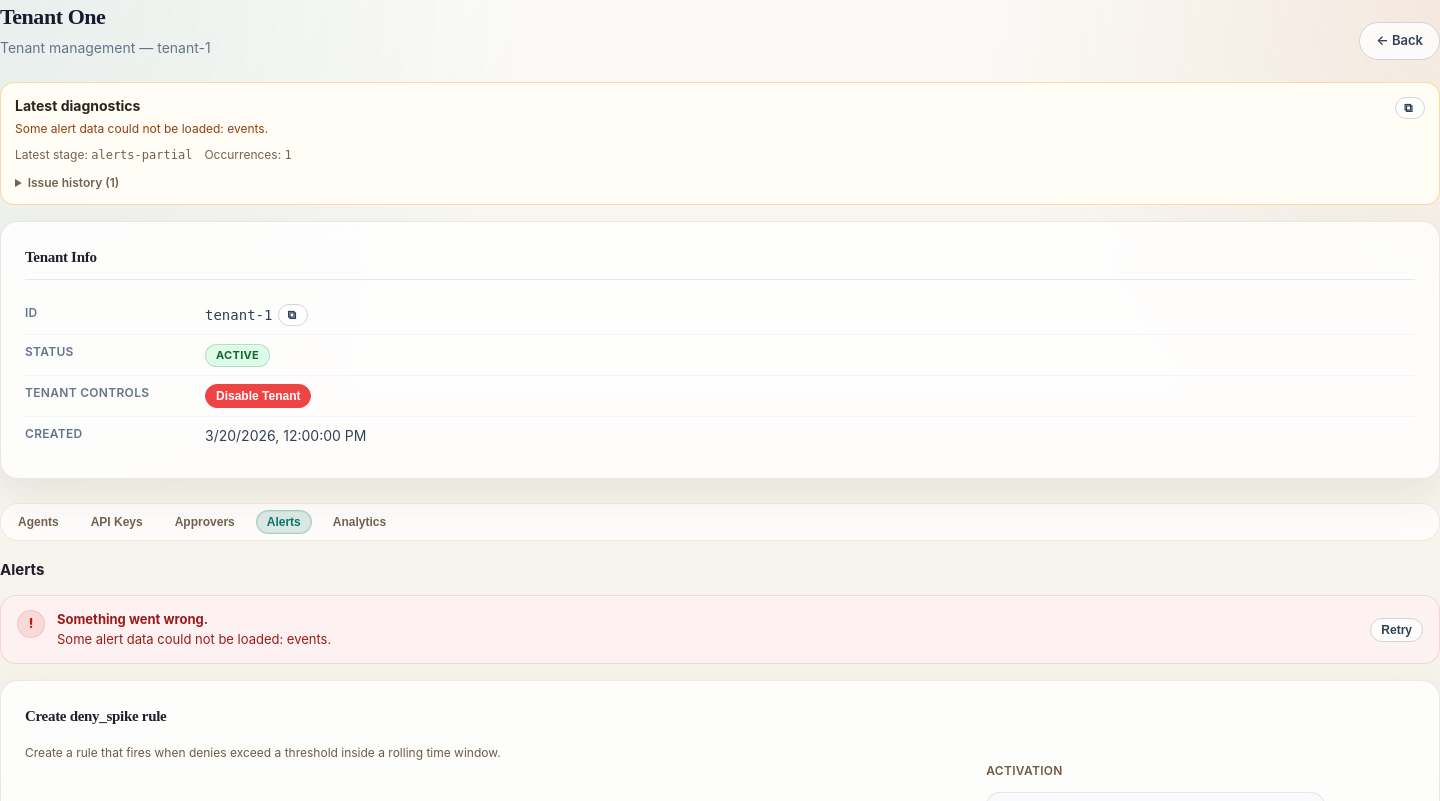
Test: Tenant detail page › keeps alert rules visible through partial alert-event failures and recovers on retry
Check: the text "Some alert data could not be loaded: events." below "Something went wrong." is shown, box [57, 630, 331, 646]
Step 1. Click the button "Retry" → (1397, 630), box [1370, 618, 1423, 642]
(page scrolled)
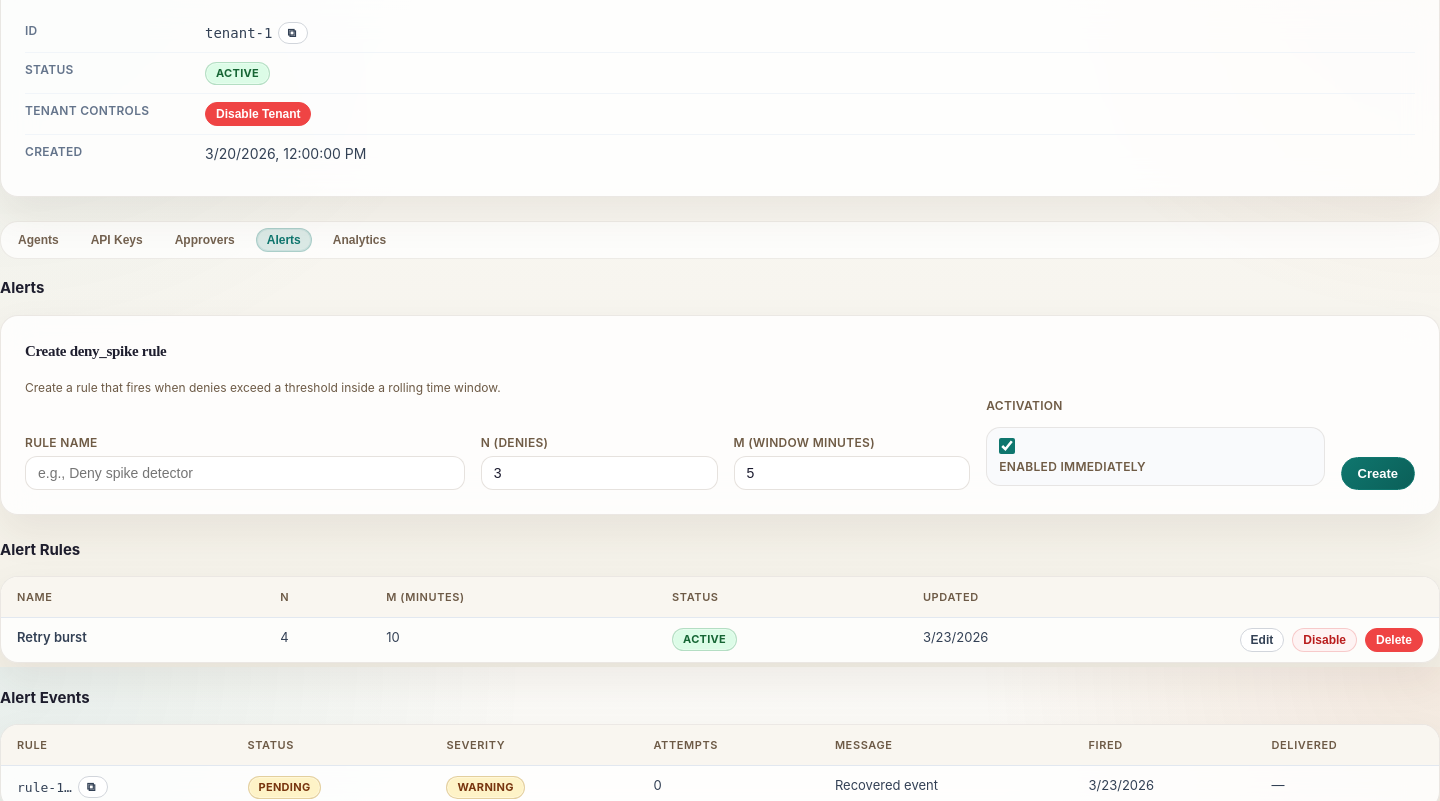
Check: the text "Recovered event" is shown, box [835, 777, 938, 793]
Check: the text "Some alert data could not be loaded: events" is not shown
